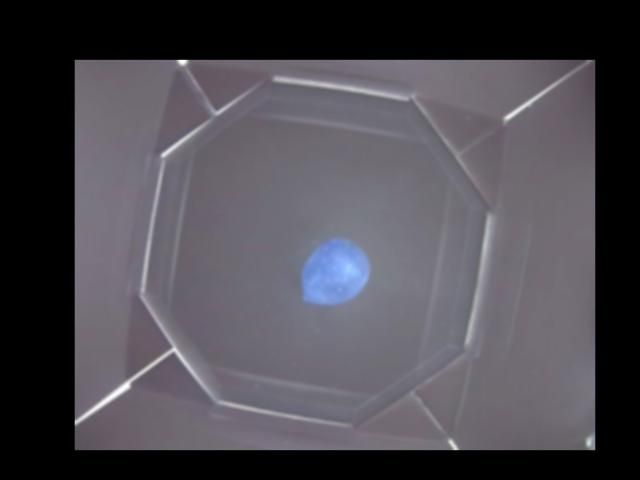Potato: (300, 233, 369, 303)
